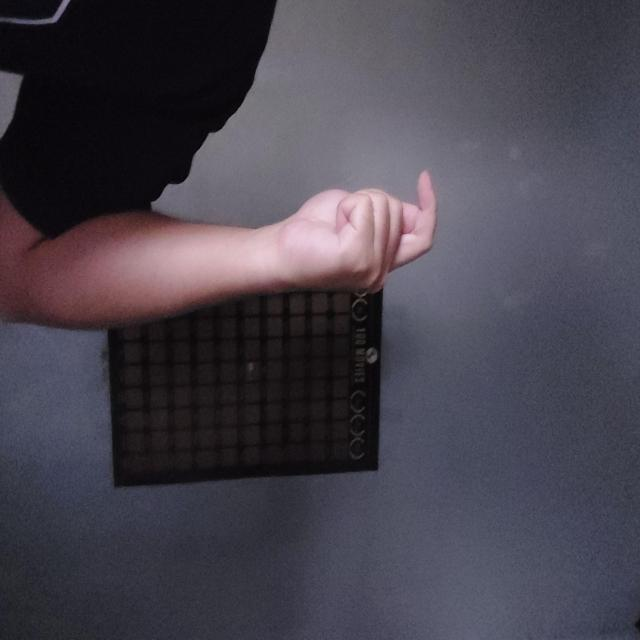T: (170, 203, 295, 374)
